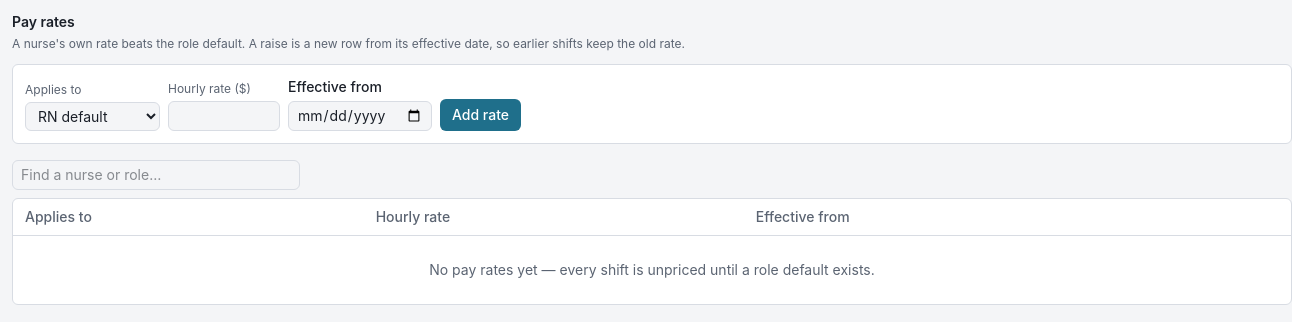
Test: pay rate list in Settings › Pay › shows a refused rate once, beside the form
Type "45" into the number field with test id "pay-rate-hourly".
click(224, 116); type("45")  # box top-left (168, 101), bottom-right (280, 131)
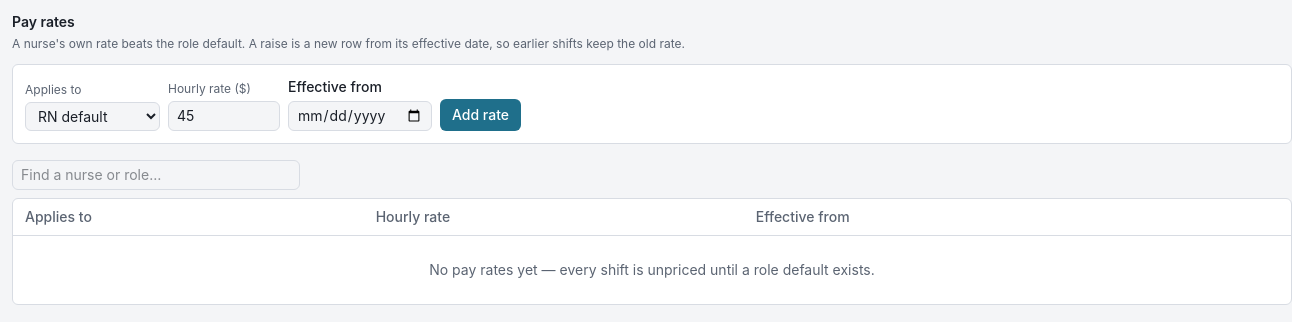
Type "2026-03-01" into the date field labelled "Effective from".
click(360, 116); type("2026-03-01")  # box top-left (288, 101), bottom-right (432, 131)
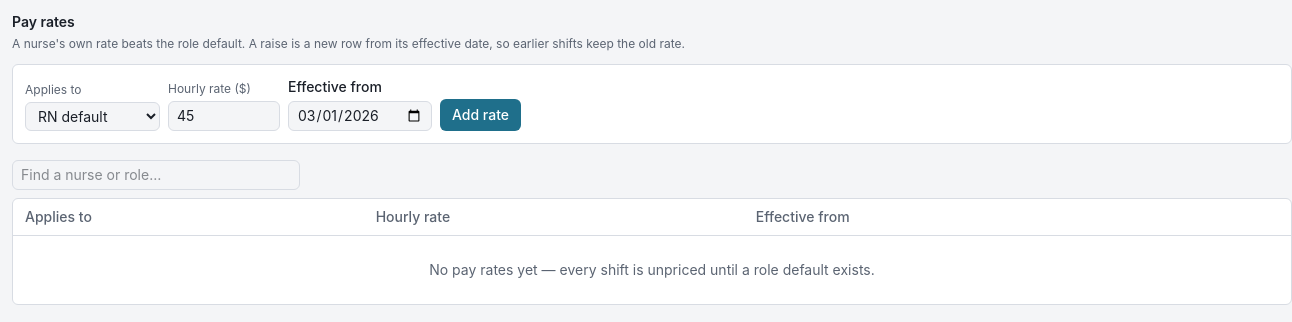
Click the button "Add rate".
click(480, 115)  # box top-left (440, 99), bottom-right (521, 131)
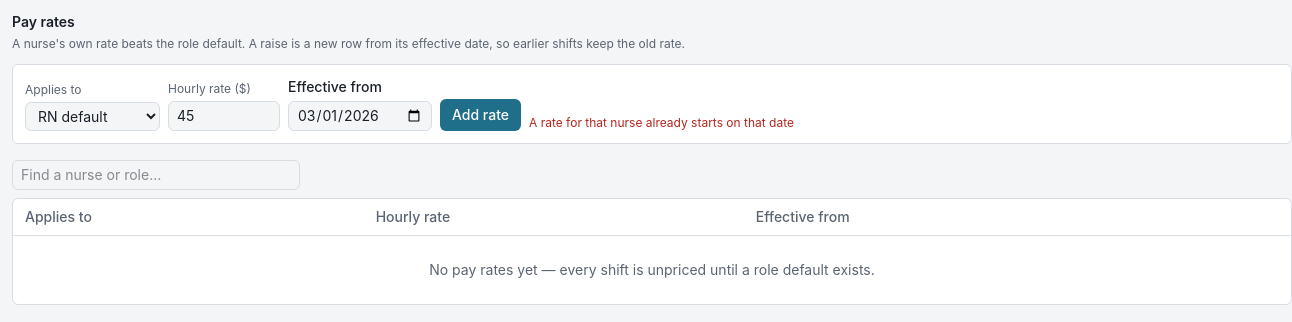
Now the text "A rate for that nurse already starts on that date" is shown once, box top-left (529, 115), bottom-right (794, 131)
